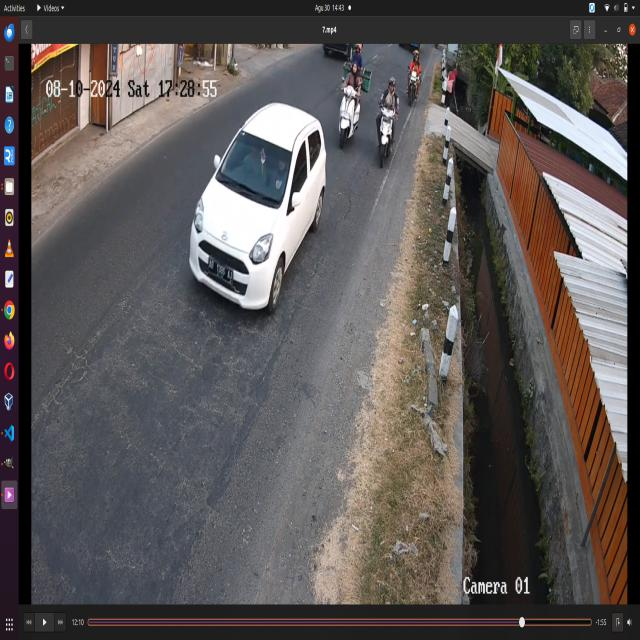person_without_seatbelt: (232, 127, 271, 188)
